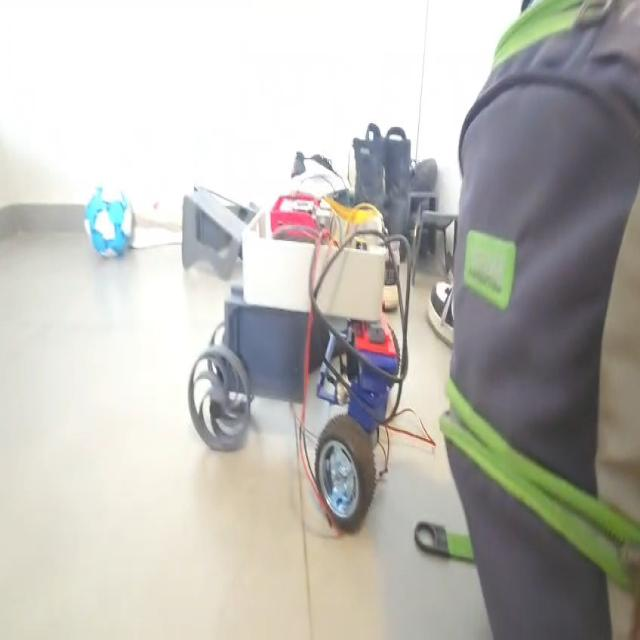Robot: (185, 165, 408, 528)
